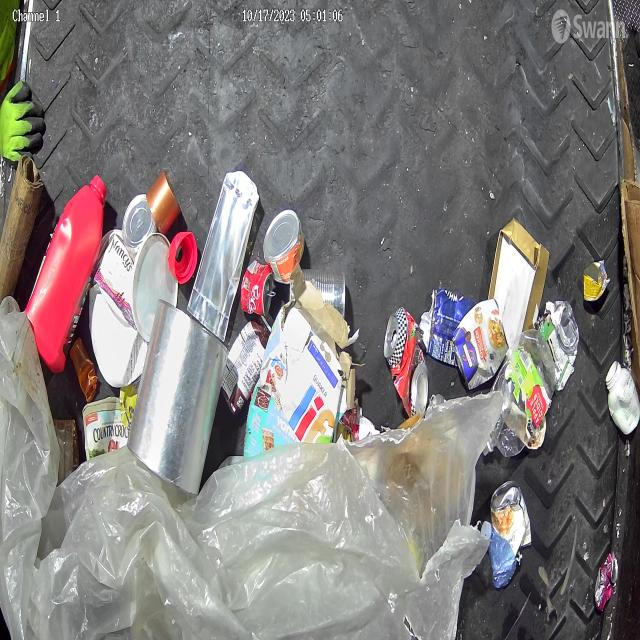can: (450, 298, 509, 388), (383, 306, 429, 419), (537, 300, 580, 392), (256, 208, 300, 290), (289, 266, 346, 320), (489, 478, 532, 548), (235, 264, 272, 324), (594, 548, 618, 613)
non_white_jug: (29, 180, 108, 377)
